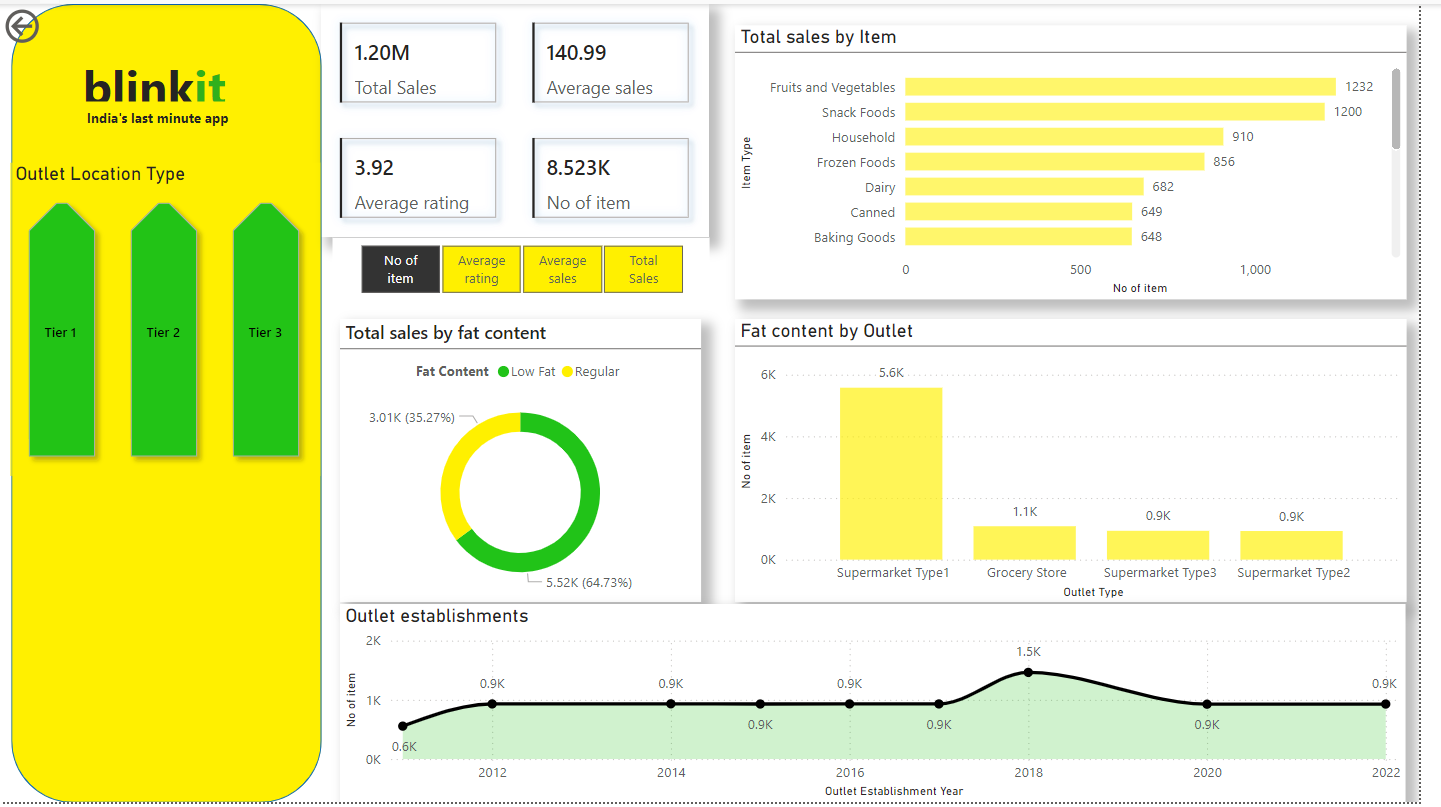

This screenshot's page, from the dashboard's own definition file:
{"tool":"powerbi","page":{"name":"Page 1","canvas":[1280,720],"ordinal":0},"visuals":[{"type":"shape","box":[9.6,0,279.9,720.4],"z":0},{"type":"textbox","box":[300,0,280,720],"z":1000},{"type":"textbox","box":[31.8,39.1,215.2,79.5],"z":2000},{"type":"actionButton","box":[0,0,100,40],"z":3000},{"type":"cardVisual","fields":{"Data":["Table1.Sum_sale","Table1.Average_sales","Table1.Avg_rating","Table1.Tota_count"]},"box":[289.8,0,349.7,210.3],"z":4000},{"type":"slicer","fields":{"Values":["Parameter.Parameter"]},"box":[299.6,210.3,339.9,56.3],"z":5000},{"type":"donutChart","title":"Total sales by fat content","fields":{"Y":["Table1.No of item"],"Category":["Table1.Item Fat Content"]},"box":[306.9,283.7,325.3,255.6],"z":6000},{"type":"barChart","title":"Total sales by Item","fields":{"Y":["Table1.No of item"],"Category":["Table1.Item Type"]},"box":[662.8,19.6,605.3,247],"z":7000},{"type":"columnChart","title":"Fat content by Outlet","fields":{"Y":["Table1.No of item"],"Category":["Table1.Outlet Type"]},"box":[662.8,283.7,605.3,255.6],"z":8000},{"type":"lineChart","title":"Outlet establishments","fields":{"Y":["Table1.No of item"],"Category":["Table1.Outlet Establishment Year"]},"box":[306.9,540.5,961.1,179.8],"z":9000},{"type":"advancedSlicerVisual","fields":{"Values":["Table1.Outlet Location Type"]},"box":[8.6,143.1,280,282.5],"z":10000},{"type":"textbox","box":[73.4,88,156.5,30.6],"z":11000}]}

Visuals, with their boxes in screenshot pixels (x1, y1, x2, y2), scaled from the page's 1280x720 canvas onto the 1441x807 screenshot:
shape: l=11, t=0, r=326, b=806
textbox: l=338, t=0, r=653, b=806
textbox: l=36, t=44, r=278, b=133
actionButton: l=0, t=0, r=113, b=45
cardVisual - Table1.Sum_sale x Table1.Average_sales: l=326, t=0, r=720, b=236
slicer - Parameter.Parameter: l=337, t=236, r=720, b=299
"Total sales by fat content" donutChart: l=346, t=318, r=712, b=604
"Total sales by Item" barChart: l=746, t=22, r=1428, b=299
"Fat content by Outlet" columnChart: l=746, t=318, r=1428, b=604
"Outlet establishments" lineChart: l=346, t=606, r=1427, b=806
advancedSlicerVisual - Table1.Outlet Location Type: l=10, t=160, r=325, b=477
textbox: l=83, t=99, r=259, b=133
